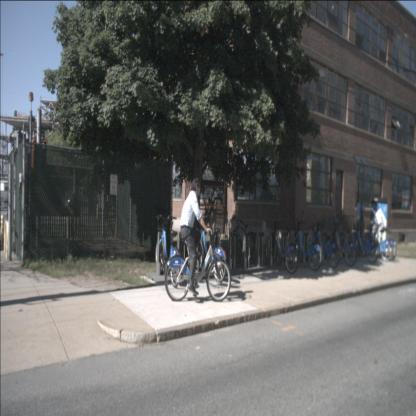vehicle-bicycle: (164, 177, 232, 302), (230, 216, 255, 254)
